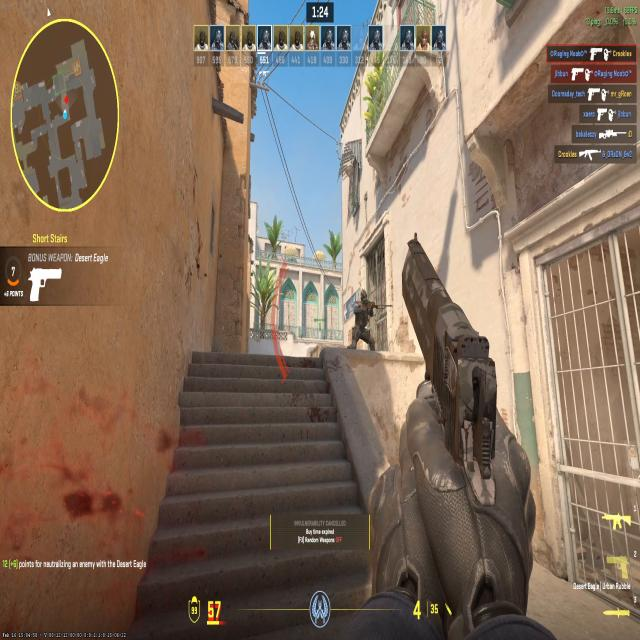player: (346, 286, 379, 358)
